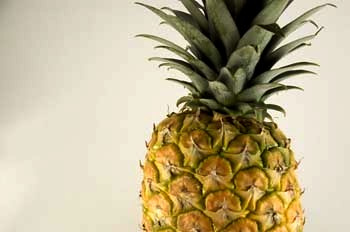pineapple: (131, 0, 342, 231)
